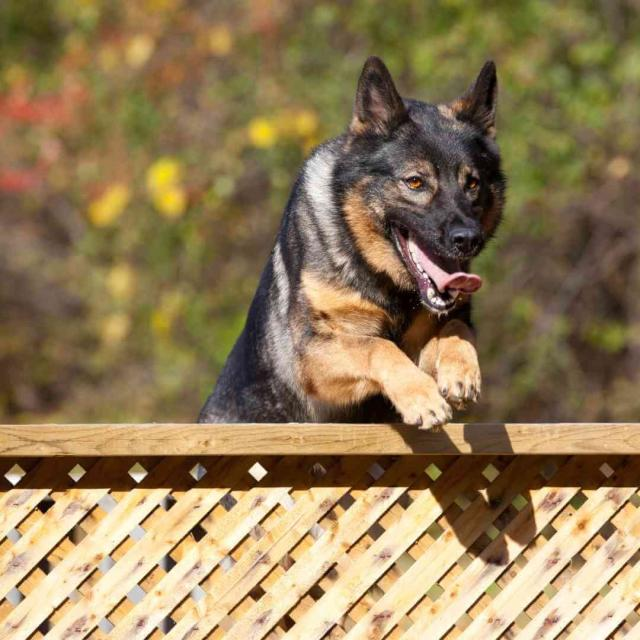GERMAN_SHEPHERD: (205, 31, 526, 494)
